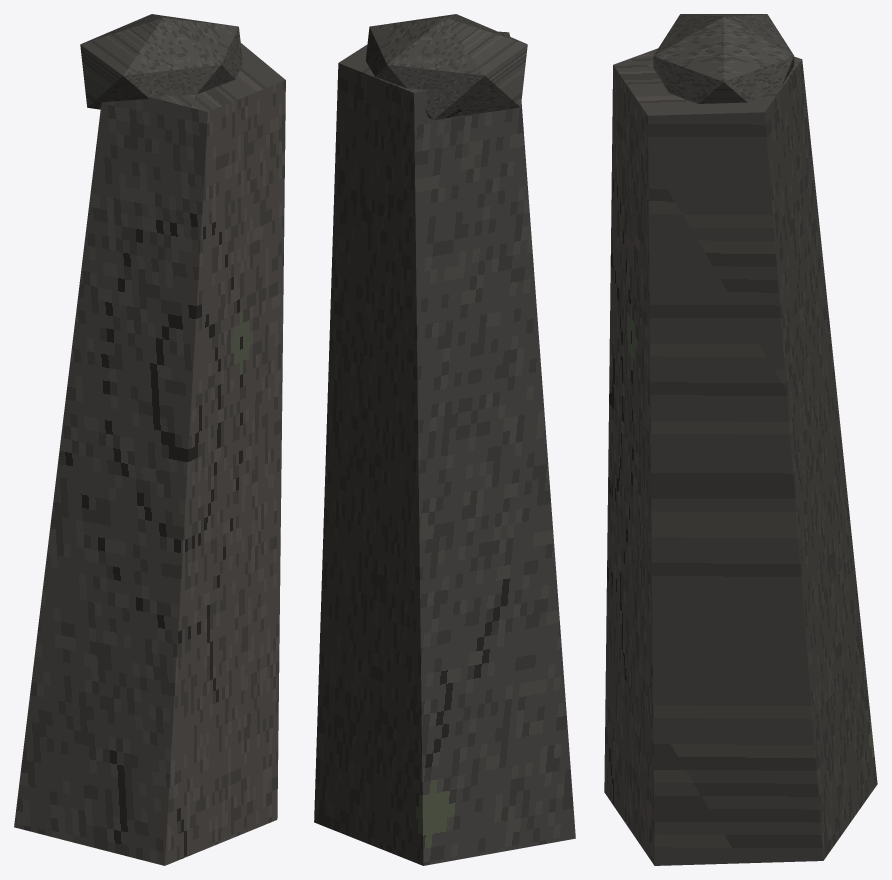
File: stone.glb
3 renders of one model, left to right at view 1: azimuth 30°, elevation 25°; view 2: azimuth 150°, elevation 25°; view 3: azimuth 270°, elevation 25°, orthographic.
Visible parts, largest first — view 1: stone; view 2: stone; view 3: stone.
Boxes of the visible parts, left/top/right/bottom form: stone: left=14, top=14, right=285, bottom=865; stone: left=314, top=14, right=575, bottom=865; stone: left=604, top=14, right=877, bottom=865.
Size of the model in its own units: 0.9631 by 3.23 by 0.9882.
Materials: 1 (1 with a texture image).
